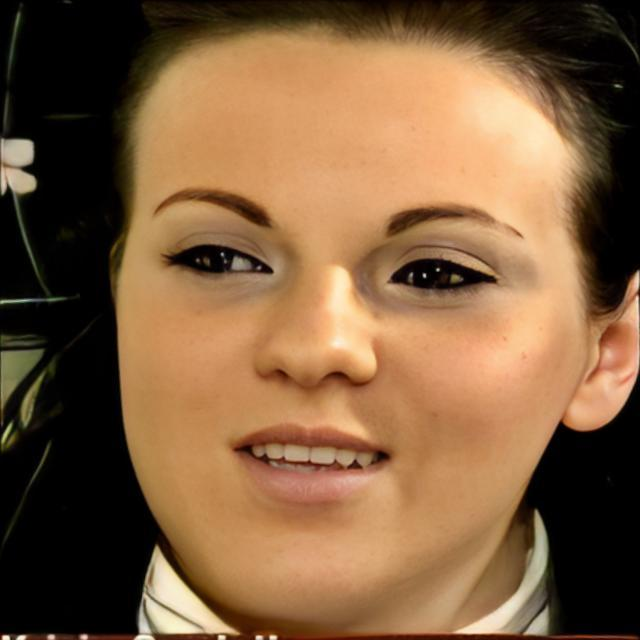disgust: (112, 21, 592, 632)
